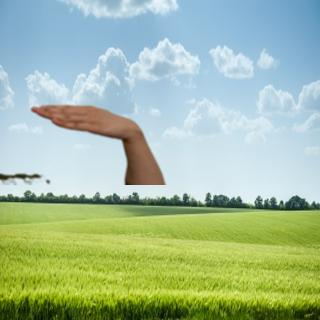WAIT: (24, 97, 139, 141)
